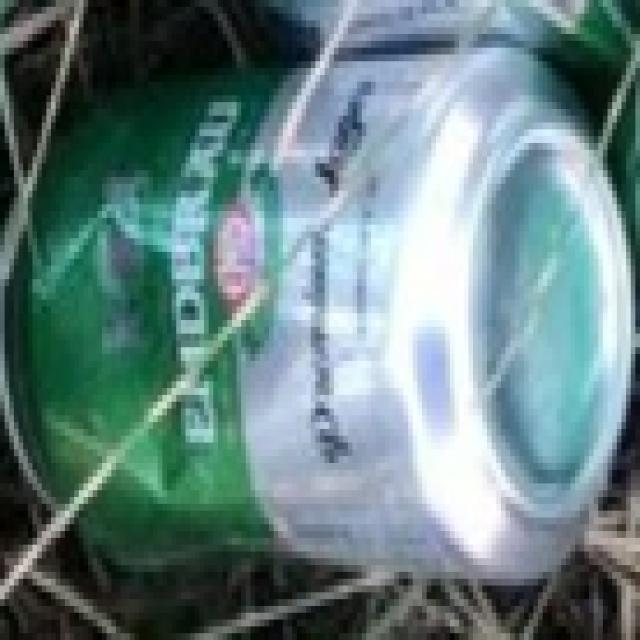can: (19, 0, 639, 587)
